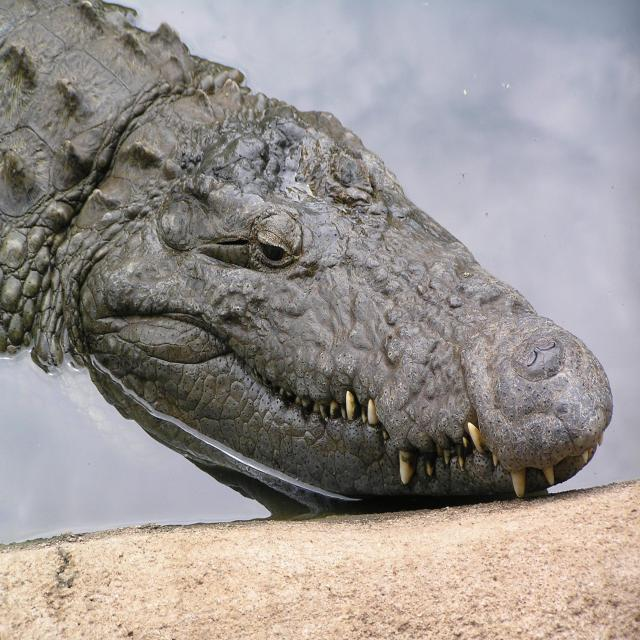crocodile: (0, 0, 640, 589)
